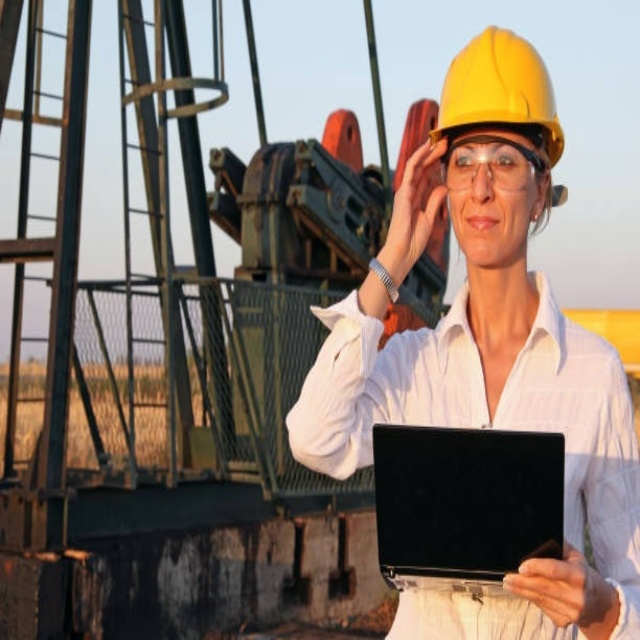Gafas: (442, 150, 543, 194)
Sin_guantes: (385, 124, 450, 264), (505, 543, 600, 633)
Sin_mascara: (459, 209, 504, 253)
